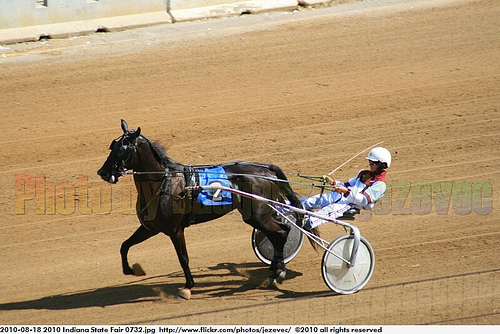horse: (97, 119, 323, 300)
